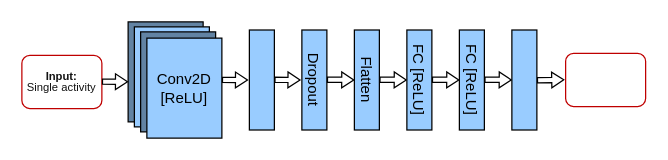
Some shapes in this 668 by 160 pixel diagram are drawn without their labels. Here are the shapes that lost their labels. From the top down, the centre of each, then its label:
At point (261, 79): "MaxPooling".
At point (524, 79): "FC [SoftMax]".
At point (605, 79): "Output: Type of activity".
